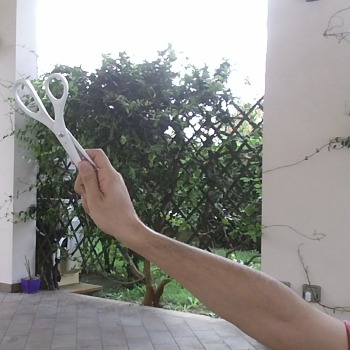hand: (77, 151, 345, 349)
